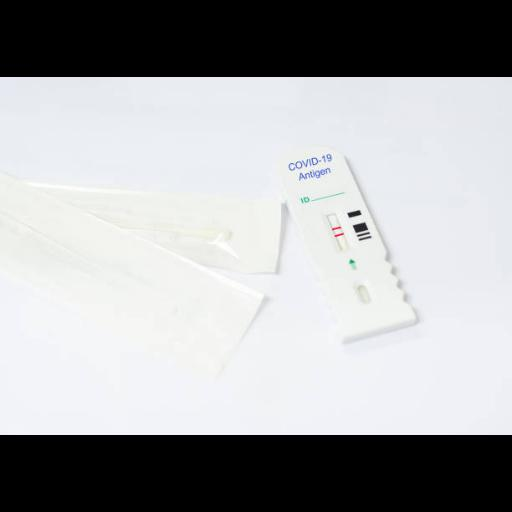Pos: (276, 141, 420, 341)
